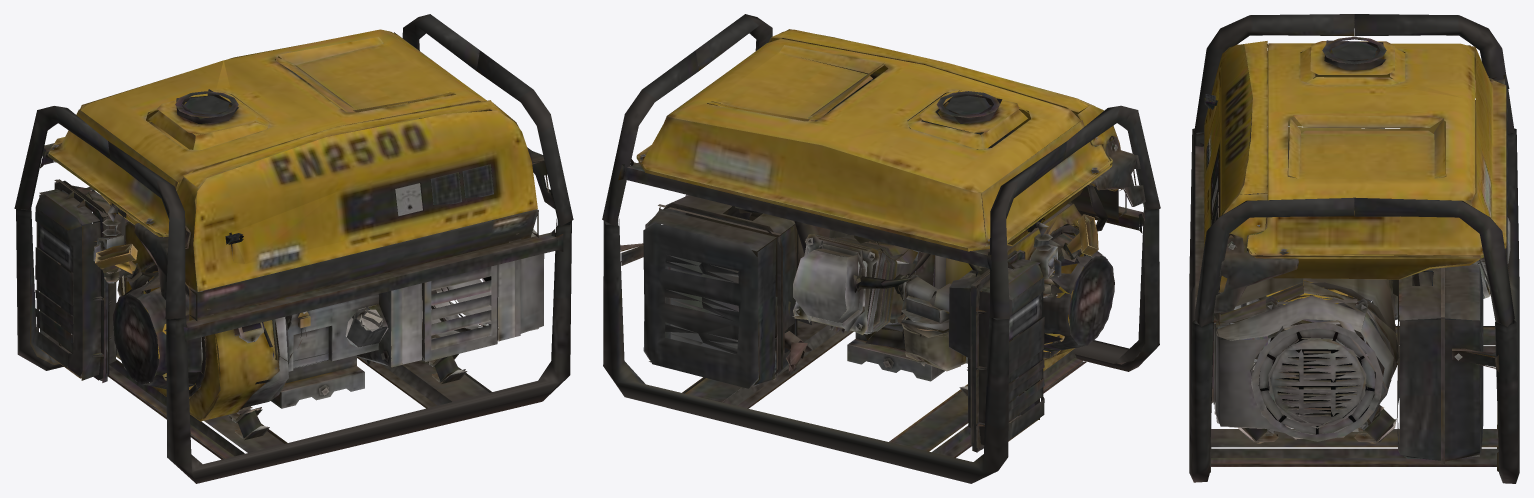
File: portable_generator.gltf
3 views of the same model, side by side, from view 1: azimuth 30°, elevation 25°; view 2: azimuth 150°, elevation 25°; view 3: azimuth 270°, elevation 25° (orthographic).
Parts seen in each view (by area): view 1: portable_generator; view 2: portable_generator; view 3: portable_generator.
Part boxes in pixels (<box>): portable_generator: <box>14,14,573,483</box>; portable_generator: <box>602,14,1160,483</box>; portable_generator: <box>1189,14,1519,483</box>.
Size of the model in its own units: 0.8217 by 0.5768 by 0.5636.
2 materials, 2 textured.
